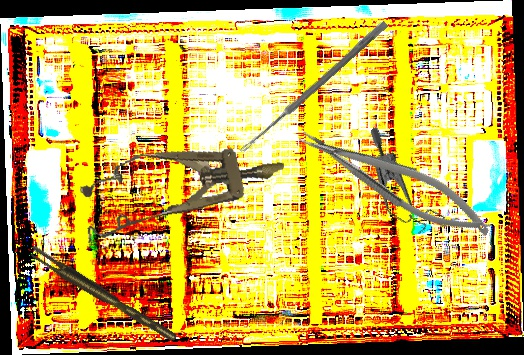Needle Holder: (293, 111, 499, 252)
Speculum: (73, 127, 292, 244), (337, 125, 471, 245)
Surgical Spoon: (238, 19, 389, 156)
Tissue Forceps: (27, 240, 178, 350)
